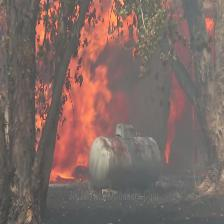fire: (27, 0, 135, 185), (163, 0, 224, 163)
